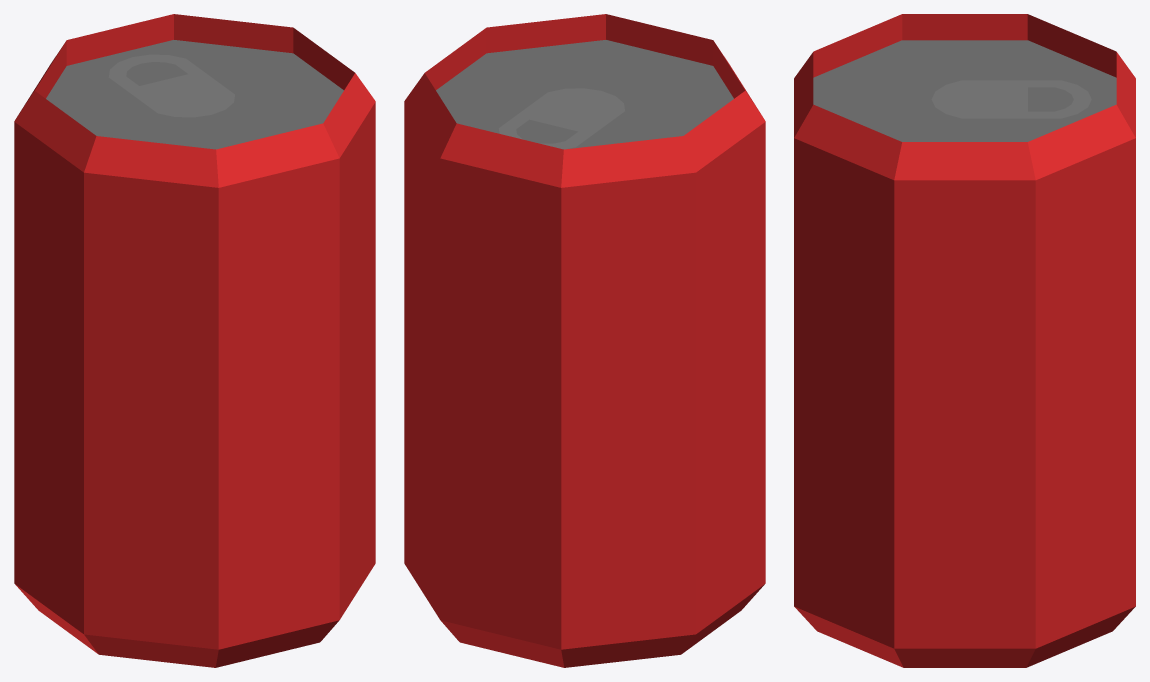
Rendered from SodaCan.fbx.
3 renders of one model, left to right at view 1: azimuth 30°, elevation 25°; view 2: azimuth 150°, elevation 25°; view 3: azimuth 270°, elevation 25°, orthographic.
Visible parts, largest first — view 1: Soda, Cylinder.019, Circle.011; view 2: Soda, Cylinder.019, Circle.011; view 3: Soda, Cylinder.019, Circle.011.
Part boxes in pixels (box(x1,y1,x2,y2)): Soda: box(14, 14, 375, 667); Cylinder.019: box(46, 40, 343, 149); Circle.011: box(108, 54, 234, 117); Soda: box(404, 14, 765, 667); Cylinder.019: box(436, 40, 733, 149); Circle.011: box(499, 88, 624, 149); Soda: box(794, 14, 1135, 667); Cylinder.019: box(813, 40, 1116, 141); Circle.011: box(931, 80, 1091, 118).
Size of the model in its own units: 7.55 by 12.86 by 7.55.
